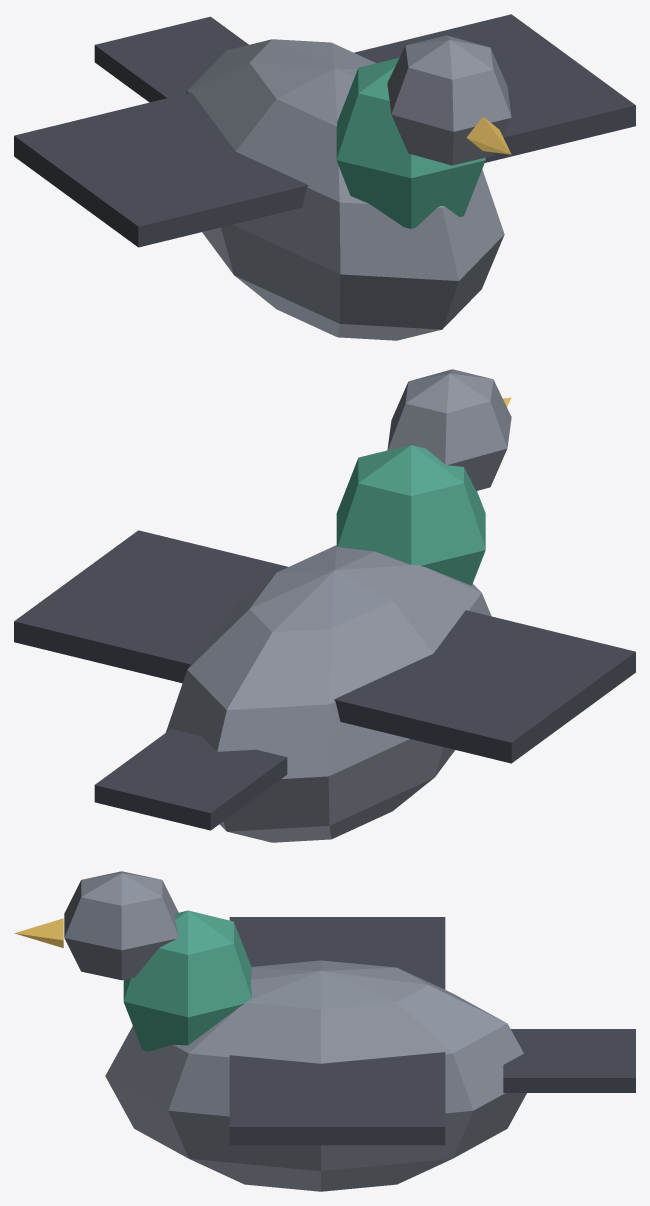
The model's file is pigeon.glb.
3 renders of one model, top to bottom at view 1: azimuth 30°, elevation 25°; view 2: azimuth 150°, elevation 25°; view 3: azimuth 270°, elevation 25°, orthographic. The views are drawn at different scales.
Visible parts, largest first — view 1: body_pigeon_grey (×2), wing_r_pigeon_dark, wing_l_pigeon_dark, body_pigeon_neck, tail_pigeon_dark, beak_beak; view 2: body_pigeon_grey (×2), wing_r_pigeon_dark, wing_l_pigeon_dark, body_pigeon_neck, tail_pigeon_dark; view 3: body_pigeon_grey (×2), wing_l_pigeon_dark, body_pigeon_neck, wing_r_pigeon_dark, tail_pigeon_dark, beak_beak.
Part boxes in pixels (box(x1,y1,x2,y2)): body_pigeon_grey (×2): box(186, 35, 511, 340); wing_r_pigeon_dark: box(14, 92, 308, 247); wing_l_pigeon_dark: box(354, 14, 635, 162); body_pigeon_neck: box(336, 57, 485, 228); tail_pigeon_dark: box(94, 16, 248, 102); beak_beak: box(466, 116, 511, 154); body_pigeon_grey (×2): box(165, 369, 511, 842); wing_r_pigeon_dark: box(334, 610, 635, 763); wing_l_pigeon_dark: box(14, 530, 287, 683); body_pigeon_neck: box(336, 445, 485, 585); tail_pigeon_dark: box(94, 729, 287, 830); body_pigeon_grey (×2): box(64, 871, 526, 1191); wing_l_pigeon_dark: box(229, 1052, 445, 1145); body_pigeon_neck: box(123, 910, 251, 1051); wing_r_pigeon_dark: box(229, 917, 445, 989); tail_pigeon_dark: box(503, 1029, 635, 1092); beak_beak: box(14, 918, 63, 947).
Size of the model in its own units: 0.3 by 0.205 by 0.375.
